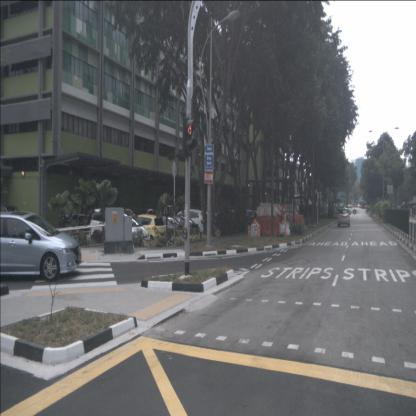movable_object-barrier: (257, 216, 279, 237), (293, 214, 304, 228)
movable_object-trafficcone: (246, 224, 252, 241), (256, 223, 261, 240), (283, 224, 288, 240)
vehicle-car: (0, 211, 82, 282), (89, 206, 151, 247), (129, 214, 167, 246), (168, 210, 210, 238), (140, 216, 183, 243), (160, 215, 199, 242), (337, 208, 350, 227)
